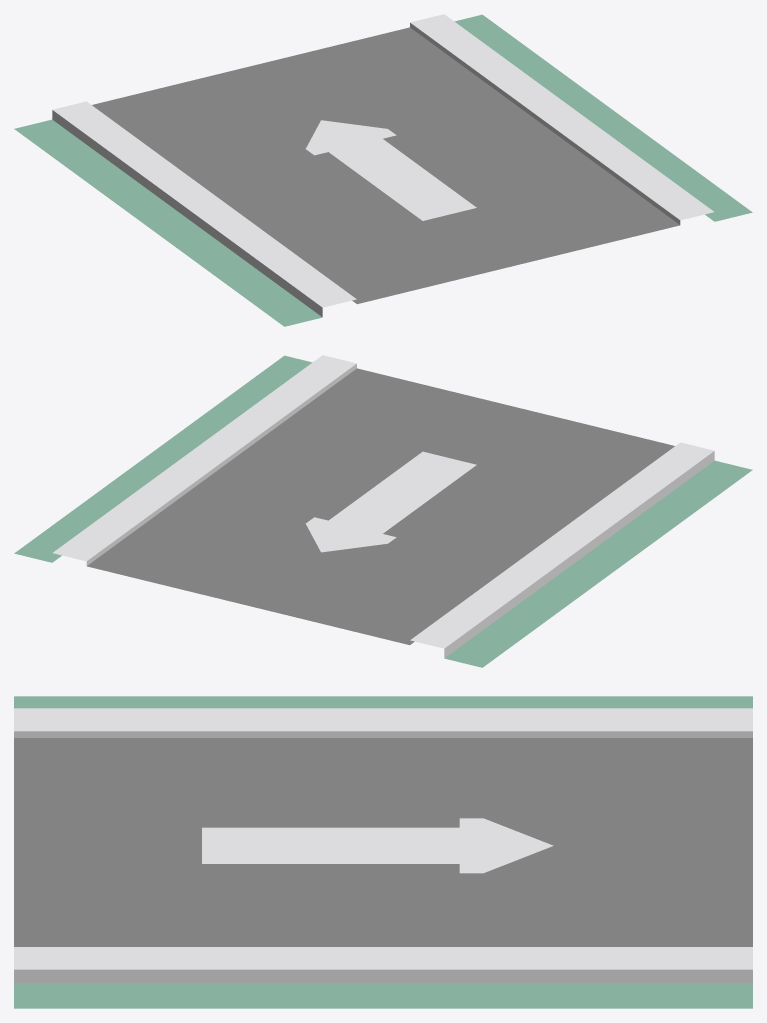
The model's file is roadStraightArrow.glb.
3 views of the same model, one above another, from view 1: azimuth 30°, elevation 25°; view 2: azimuth 150°, elevation 25°; view 3: azimuth 270°, elevation 25° (orthographic). The views are drawn at different scales.
Visible parts, largest first — view 1: roadStraightArrow(Clone); view 2: roadStraightArrow(Clone); view 3: roadStraightArrow(Clone).
Part boxes in pixels (x1,y1,x2,y2): roadStraightArrow(Clone): (14, 14, 752, 326); roadStraightArrow(Clone): (14, 355, 752, 667); roadStraightArrow(Clone): (14, 696, 752, 1008).
Size of the model in its own units: 1 by 0.02 by 1.
Materials: 1 (1 with a texture image).
